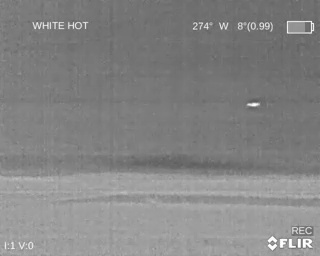AIRPLANE: (245, 100, 262, 109)
